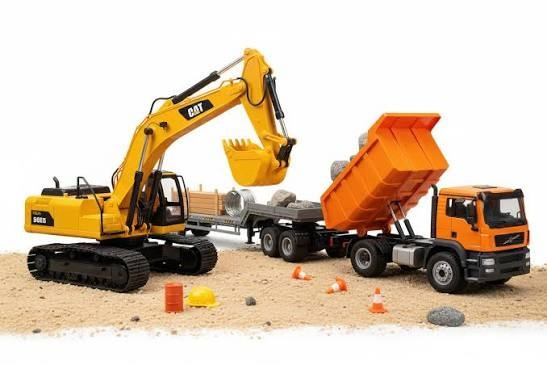excavator: (21, 51, 294, 332)
truck: (312, 88, 535, 302)
